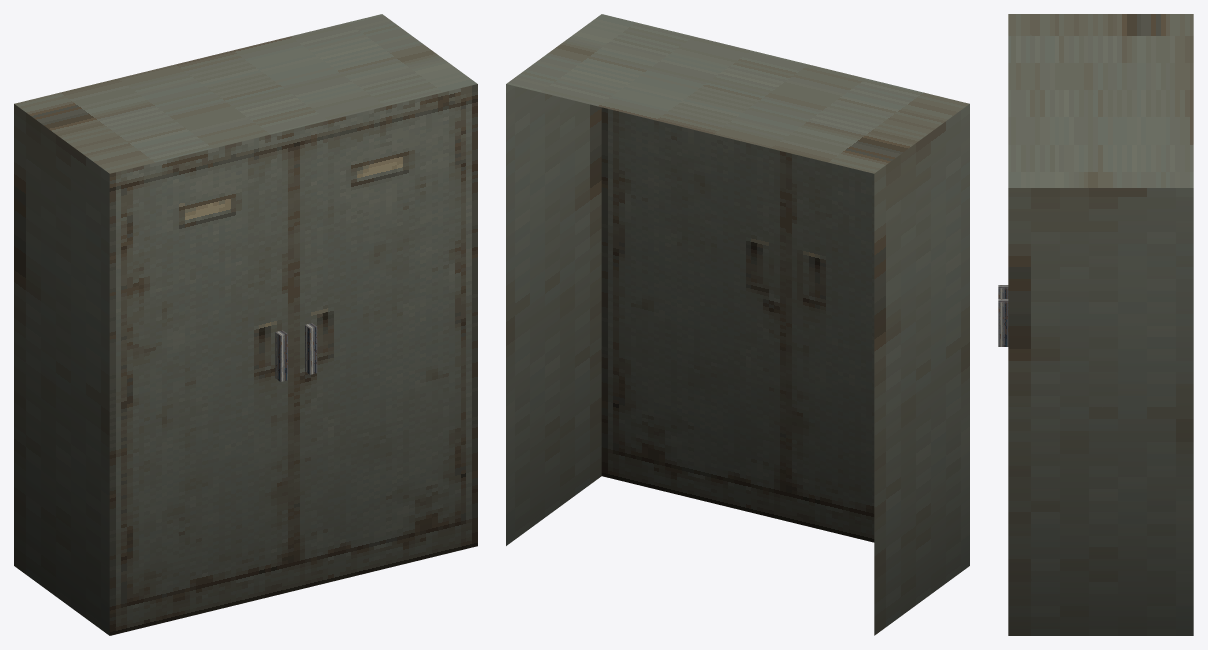
Rendered from prop_cabinet-1.glb.
3 views of the same model, side by side, from view 1: azimuth 30°, elevation 25°; view 2: azimuth 150°, elevation 25°; view 3: azimuth 270°, elevation 25° (orthographic). The views are drawn at different scales.
Visible parts, largest first — view 1: prop_cabinet-1; view 2: prop_cabinet-1; view 3: prop_cabinet-1.
Boxes of the visible parts, x1=… form: prop_cabinet-1: x1=14, y1=14, x2=477, y2=635; prop_cabinet-1: x1=506, y1=14, x2=969, y2=635; prop_cabinet-1: x1=998, y1=14, x2=1193, y2=635.
Size of the model in its own units: 1 by 1.2 by 0.474.
2 materials, 2 textured.
